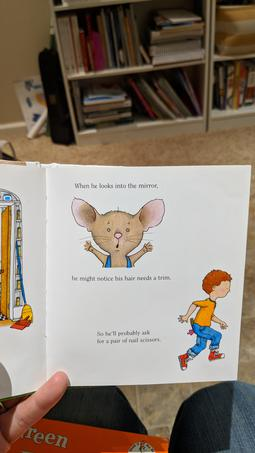text block: (84, 318, 166, 348), (68, 175, 163, 194), (69, 270, 173, 285)
